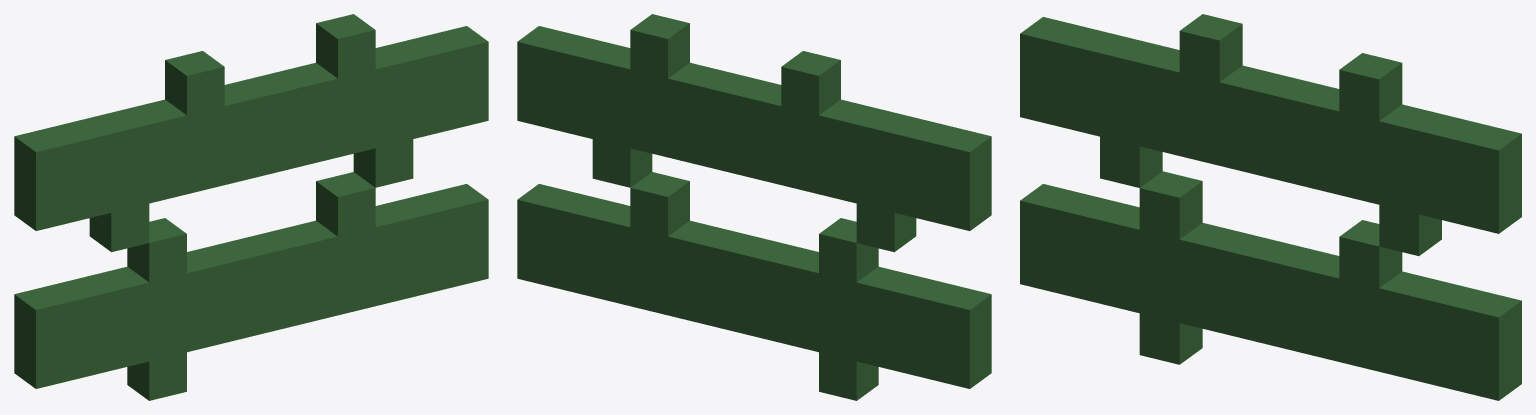
The model's file is MazeGreenRightLeg-2.vox.obj.
3 renders of one model, left to right at view 1: azimuth 30°, elevation 25°; view 2: azimuth 150°, elevation 25°; view 3: azimuth 330°, elevation 25°, orthographic. The views are drawn at different scales.
Size of the model in its own units: 1.2 by 0.8 by 0.1.
1 material, 1 textured.
